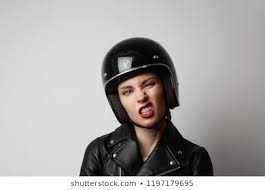helmet: (95, 41, 185, 116)
